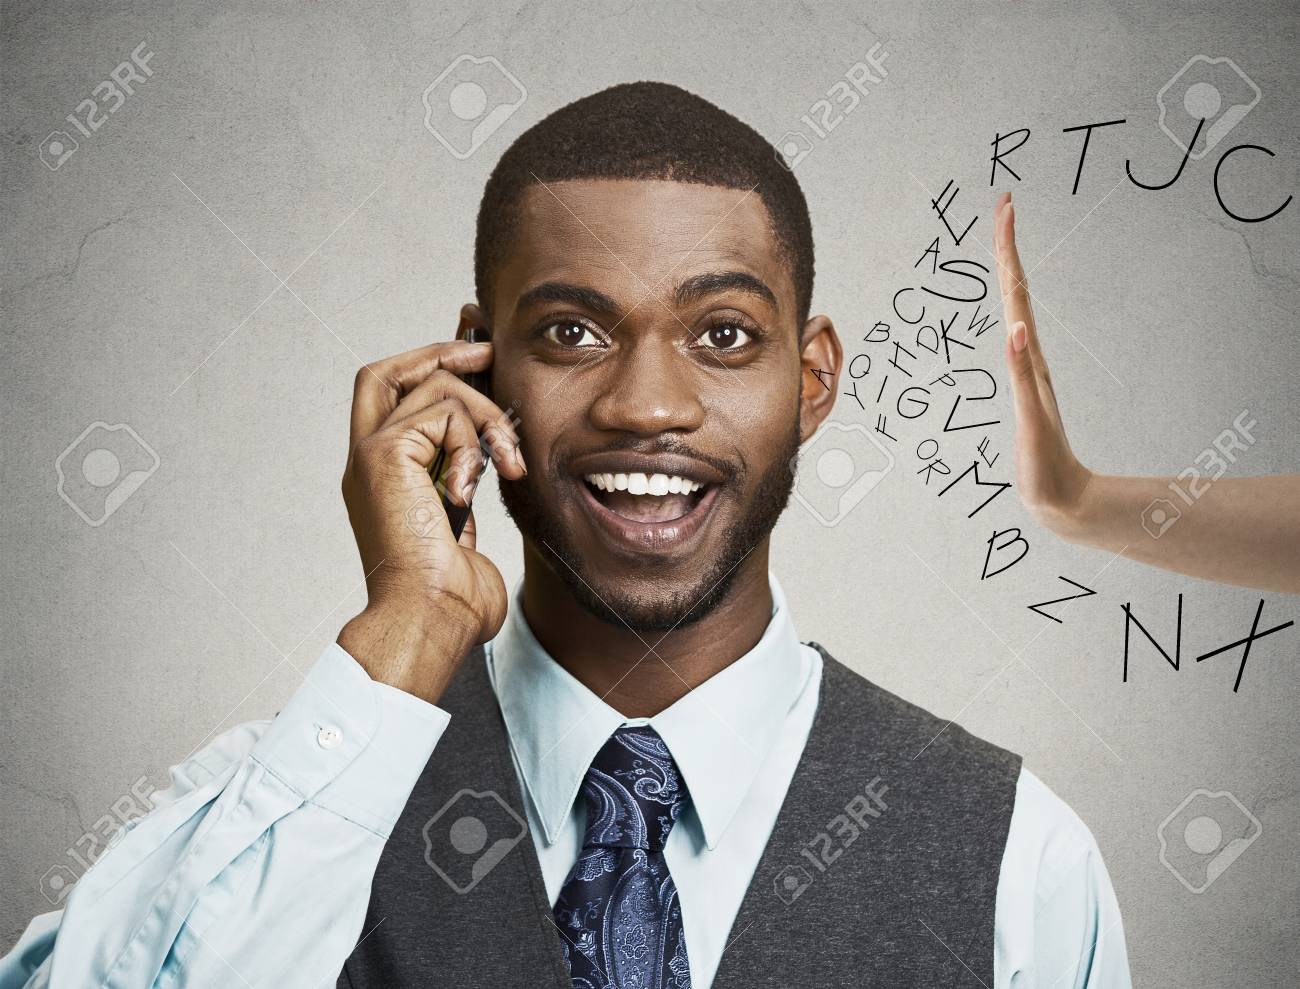phone: (433, 323, 496, 546)
talk: (332, 268, 798, 669)
